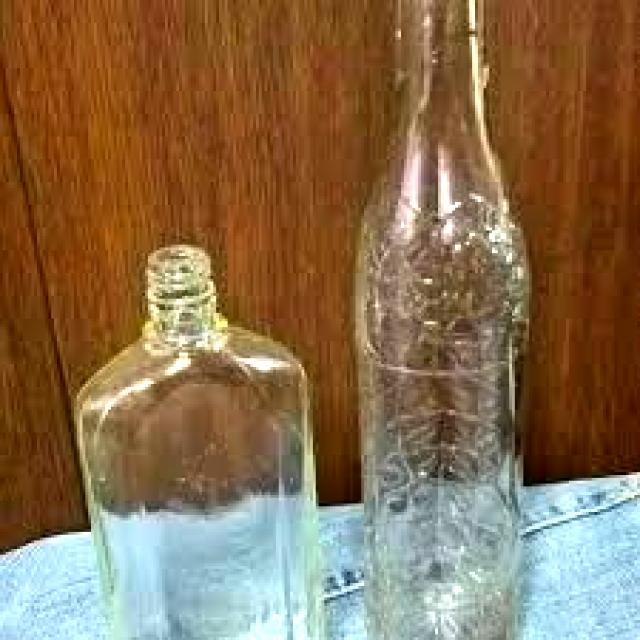Glass: (350, 0, 532, 640), (65, 242, 332, 640)
